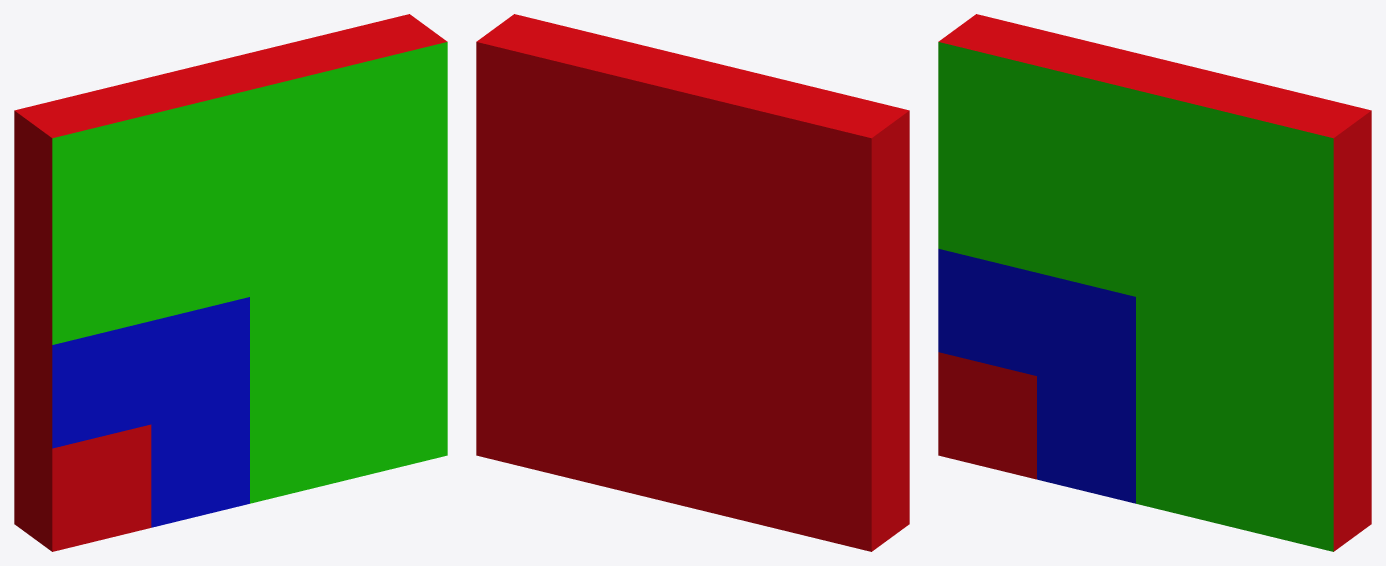
File: Floor Angle 1.fbx
The picture shows the model from 3 angles, left to right: view 1: azimuth 30°, elevation 25°; view 2: azimuth 150°, elevation 25°; view 3: azimuth 330°, elevation 25°; orthographic projection.
Parts seen in each view (by area): view 1: Cube; view 2: Cube; view 3: Cube.
Boxes of the visible parts, x1,y1,x2,y2 form: Cube: (14, 14, 447, 551); Cube: (476, 14, 909, 551); Cube: (938, 14, 1371, 551).
Size of the model in its own units: 300 by 300 by 50.
